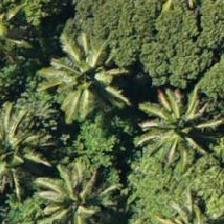coconut_tree: (48, 25, 138, 115), (11, 157, 101, 223), (160, 81, 223, 171)
